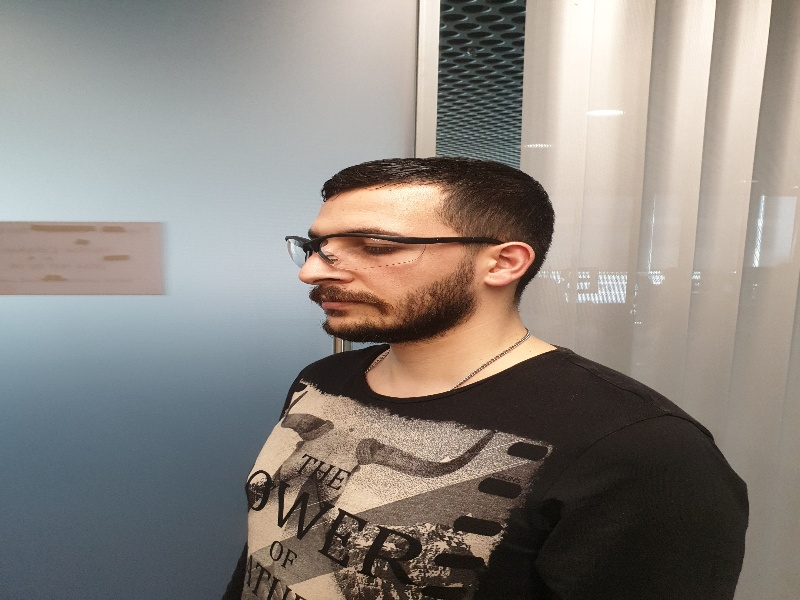Gozluk: (288, 232, 518, 263)
